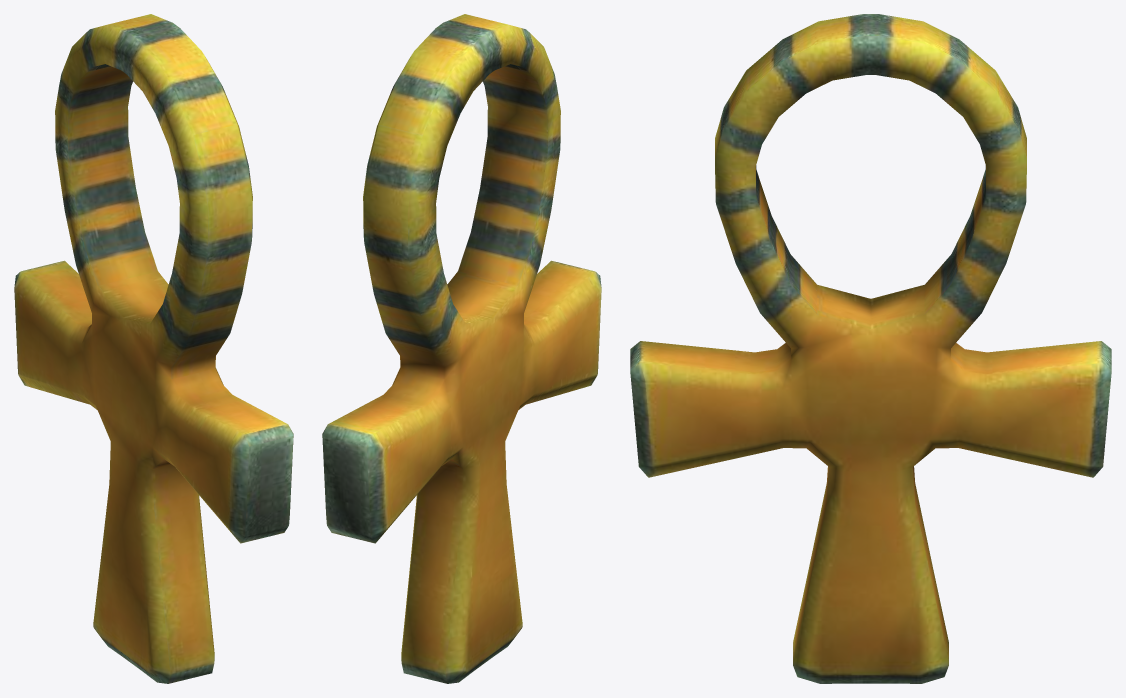
File: ankh.glb
The picture shows the model from 3 angles, left to right: view 1: azimuth 30°, elevation 25°; view 2: azimuth 150°, elevation 25°; view 3: azimuth 270°, elevation 25°; orthographic projection. The views are drawn at different scales.
Parts seen in each view (by area): view 1: Plane__0; view 2: Plane__0; view 3: Plane__0.
Part boxes in pixels (x1,y1,x2,y2): Plane__0: (14, 14, 293, 683); Plane__0: (322, 14, 601, 683); Plane__0: (630, 14, 1111, 683).
Size of the model in its own units: 17.11 by 170 by 115.
Materials: 1 (1 with a texture image).
